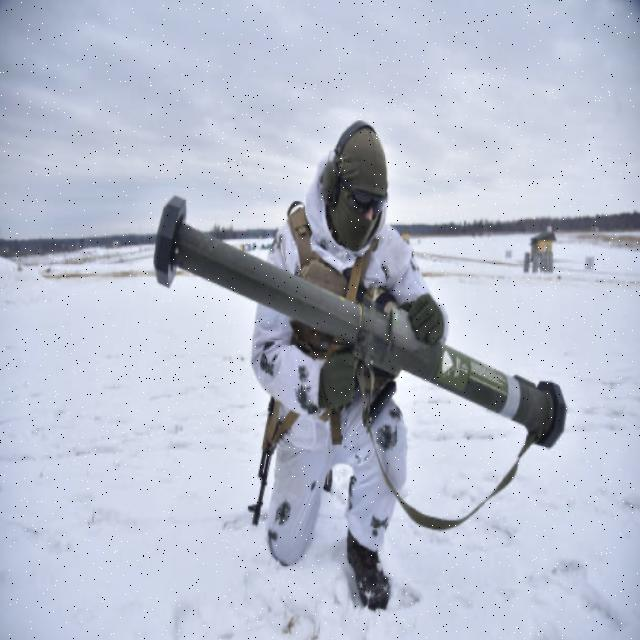bazooka: (149, 191, 592, 480)
